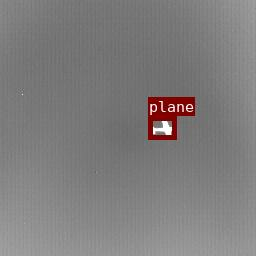plane: (148, 116, 176, 139)
